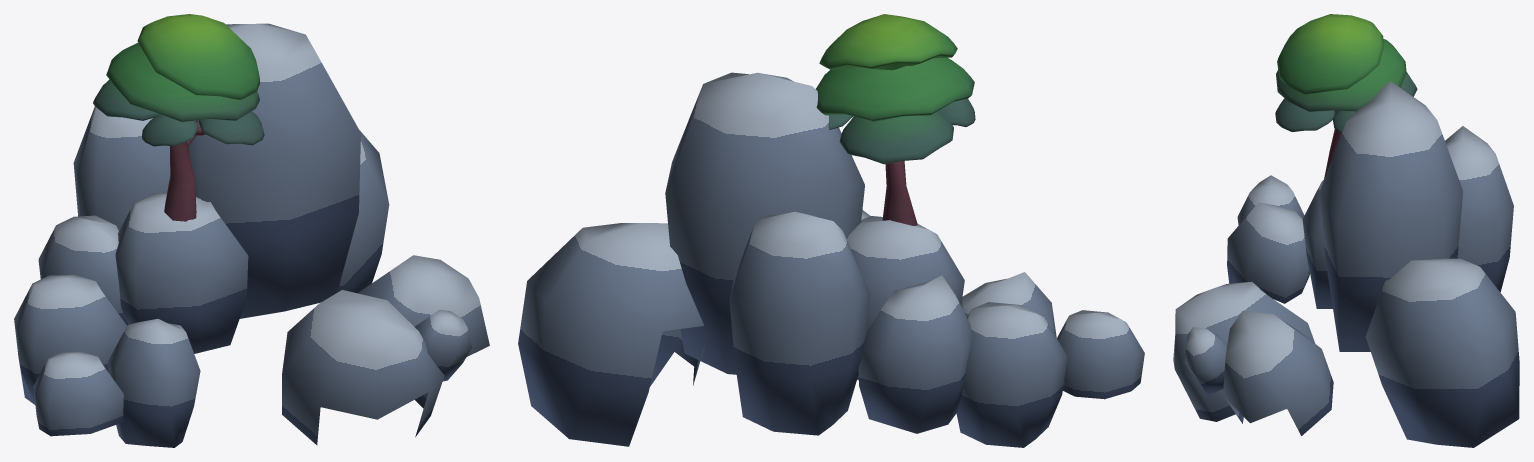
The model's file is map-small-island.glb.
3 views of the same model, side by side, from view 1: azimuth 30°, elevation 25°; view 2: azimuth 150°, elevation 25°; view 3: azimuth 270°, elevation 25° (orthographic). The views are drawn at different scales.
Parts seen in each view (by area): view 1: Tree.022; view 2: Tree.022; view 3: Tree.022.
Boxes of the visible parts, bbox=[...] form: Tree.022: bbox=[14, 14, 489, 447]; Tree.022: bbox=[518, 14, 1144, 447]; Tree.022: bbox=[1173, 14, 1519, 447].
Bounding box in the file's own units: 34.25 × 27.83 × 25.92.
Materials: 2 (2 with a texture image).
